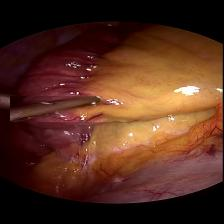Grasper: (10, 95, 103, 121)
